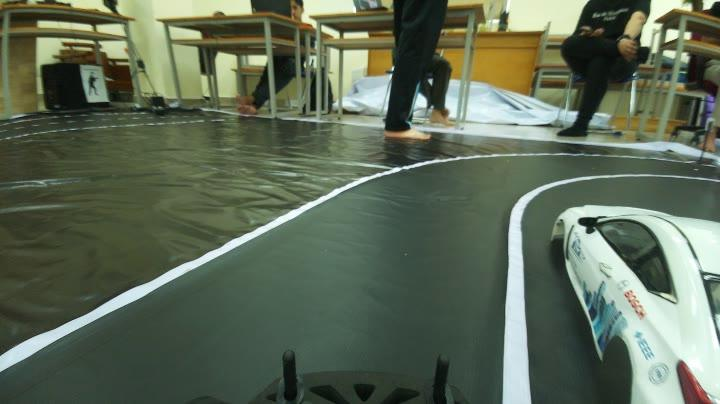car: (563, 174, 720, 404)
